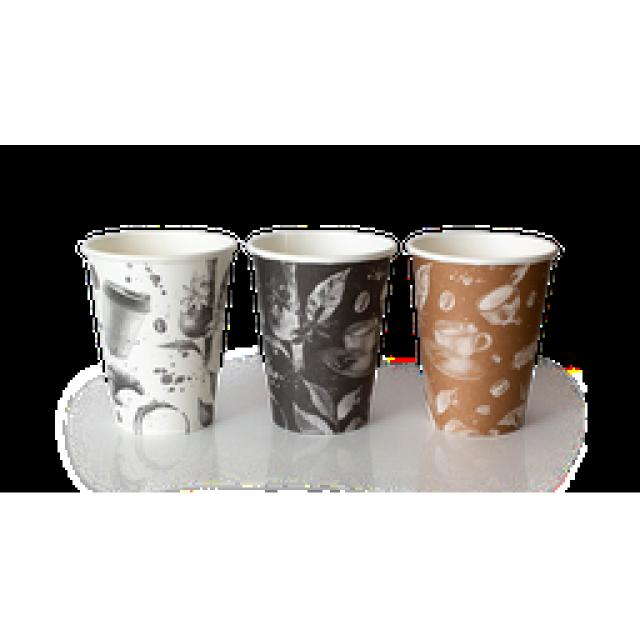paper_cups: (399, 222, 560, 438), (78, 224, 236, 441), (245, 225, 402, 432)
